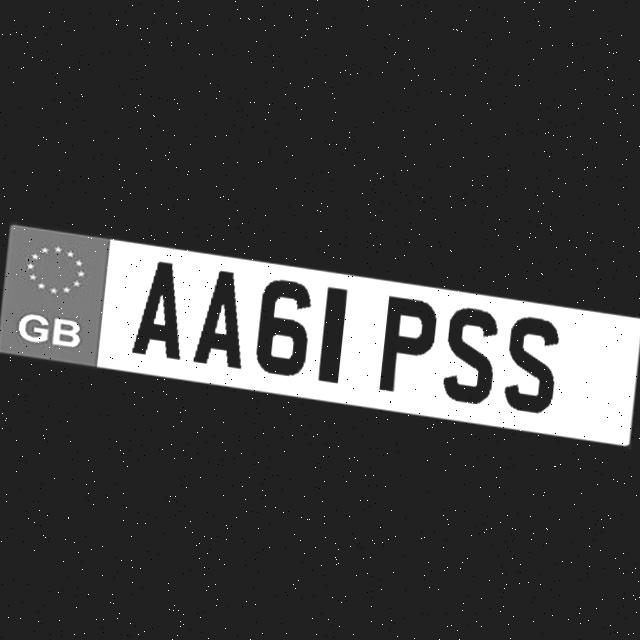license-plates: (0, 223, 640, 443)
